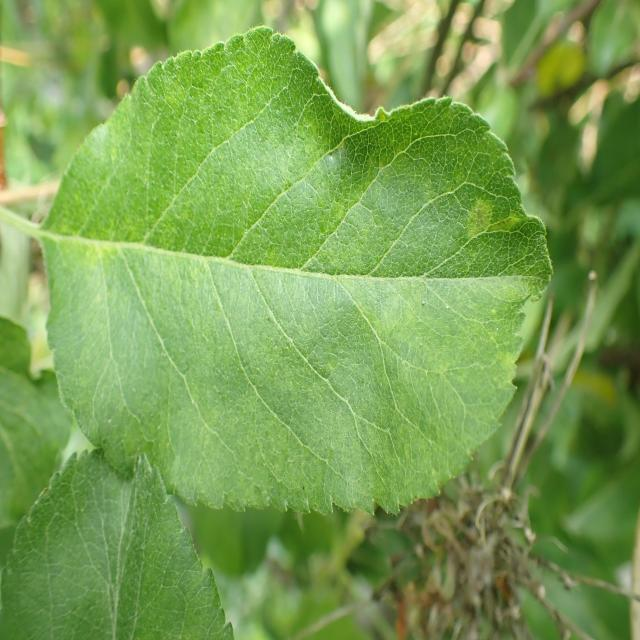scab: (68, 106, 525, 466)
